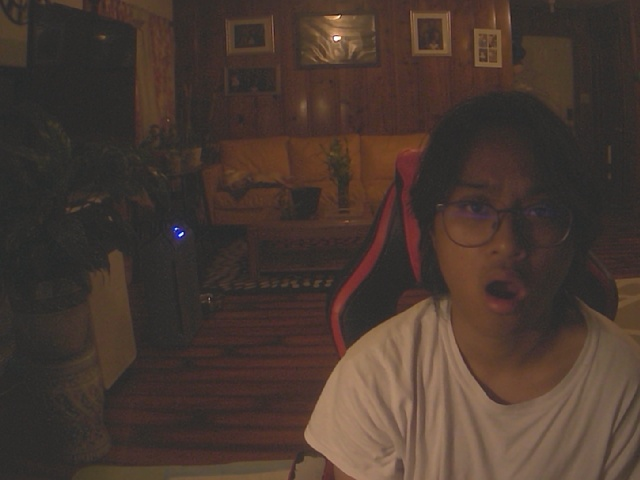fear: (407, 89, 603, 334)
